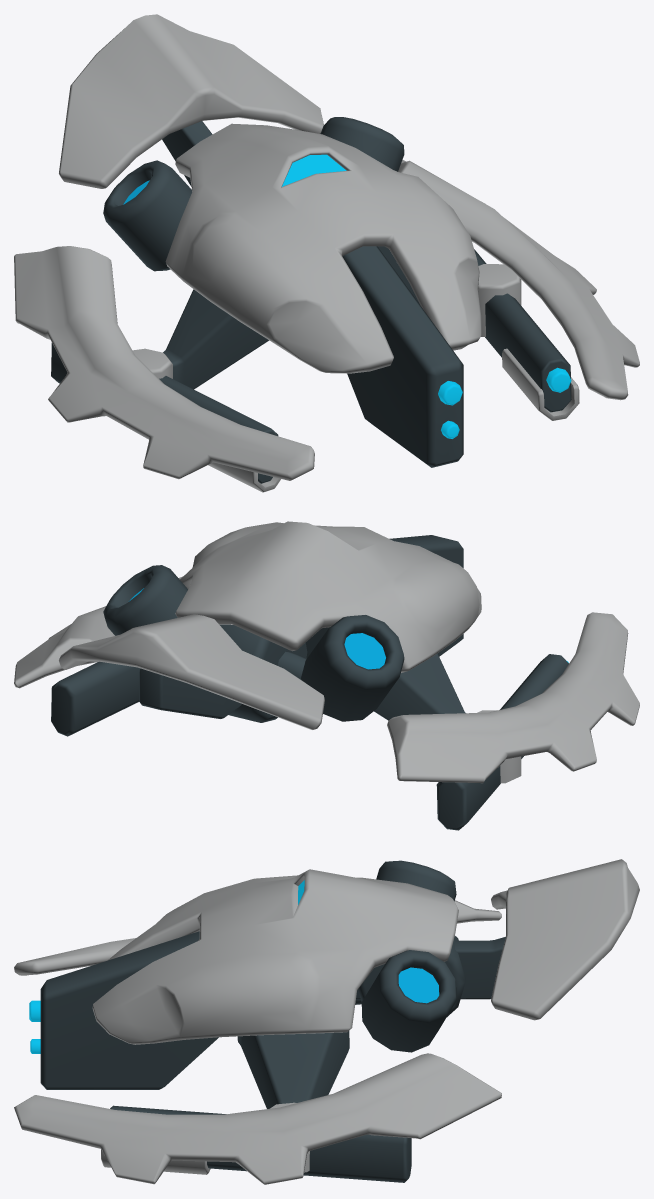
Rendered from Drone_006.glb.
The picture shows the model from 3 angles, top to bottom: view 1: azimuth 30°, elevation 25°; view 2: azimuth 150°, elevation 25°; view 3: azimuth 270°, elevation 25°; orthographic projection. The views are drawn at different scales.
Visible parts, largest first — view 1: Drone_006; view 2: Drone_006; view 3: Drone_006.
Part boxes in pixels (x1,y1,x2,y2): Drone_006: (14, 14, 639, 492); Drone_006: (14, 521, 639, 830); Drone_006: (14, 859, 639, 1184).
Size of the model in its own units: 0.7087 by 0.3101 by 0.7543.
2 materials, 2 textured.
